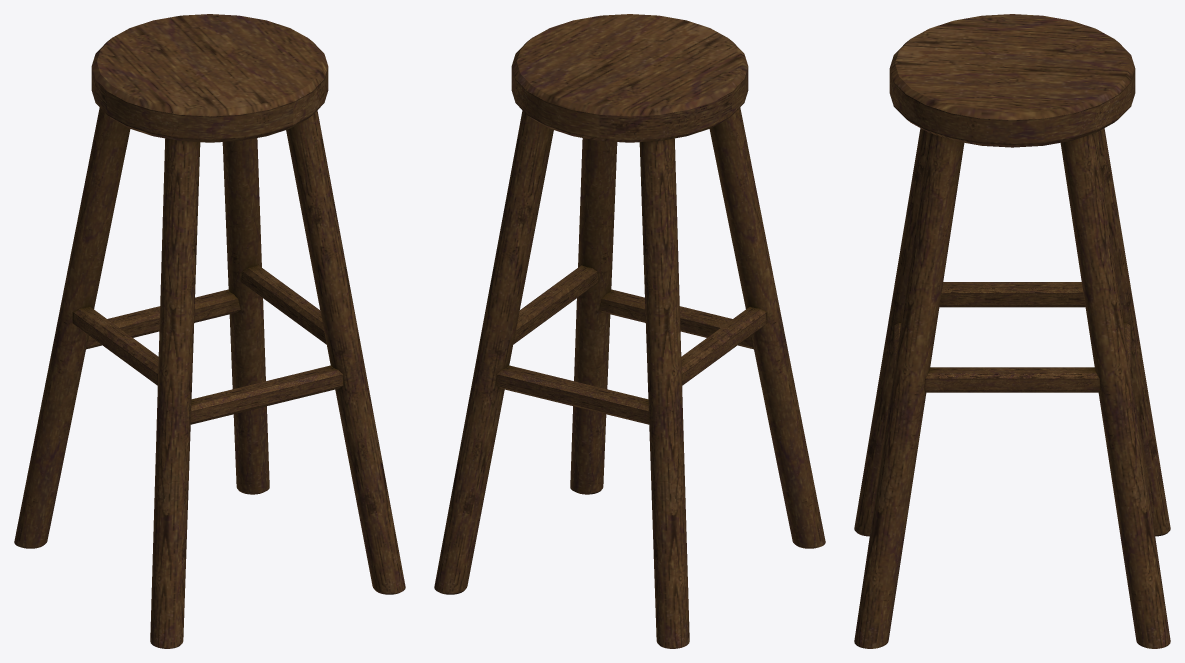
File: Banco de bar.fbx
The picture shows the model from 3 angles, left to right: view 1: azimuth 30°, elevation 25°; view 2: azimuth 150°, elevation 25°; view 3: azimuth 270°, elevation 25°; orthographic projection. The views are drawn at different scales.
Visible parts, largest first — view 1: Cylinder; view 2: Cylinder; view 3: Cylinder.
Boxes of the visible parts, x1,y1,x2,y2 form: Cylinder: (14,14,405,648); Cylinder: (434,14,825,648); Cylinder: (854,14,1170,648).
Size of the model in its own units: 44.38 by 85.12 by 46.7.
